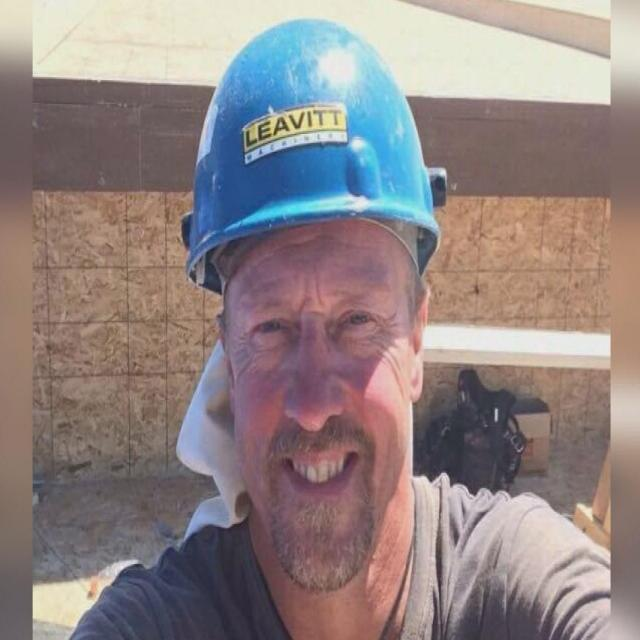hat: (185, 20, 442, 294)
